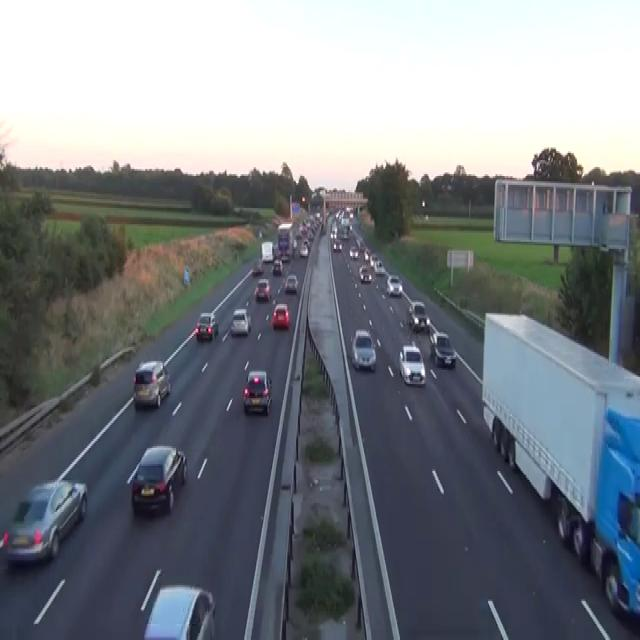Car: (3, 478, 87, 566), (126, 444, 187, 516), (143, 583, 215, 638), (133, 359, 171, 409), (242, 370, 272, 414), (398, 343, 425, 386), (350, 329, 376, 371), (429, 331, 456, 368), (195, 311, 218, 341), (408, 300, 429, 330), (230, 308, 251, 336), (271, 302, 290, 329), (254, 278, 271, 300), (386, 274, 402, 297), (284, 274, 298, 293), (358, 265, 371, 283), (252, 258, 263, 276), (272, 258, 282, 274), (374, 260, 384, 274), (355, 235, 365, 249), (273, 243, 281, 260), (349, 244, 358, 258), (299, 244, 308, 258), (338, 226, 348, 238), (370, 252, 378, 266), (332, 240, 342, 251), (272, 215, 280, 226), (302, 238, 310, 247), (364, 247, 369, 261), (330, 230, 336, 238), (293, 238, 297, 249), (315, 212, 320, 220), (348, 222, 352, 231)
Truck: (481, 311, 639, 621), (277, 222, 293, 262), (260, 240, 273, 261)
